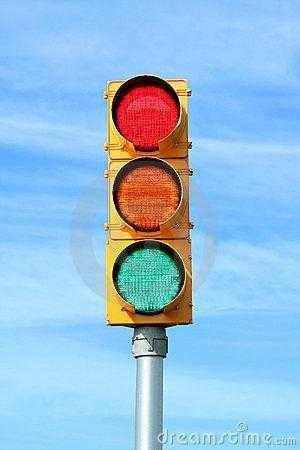green: (107, 241, 192, 324)
red: (106, 75, 189, 157)
